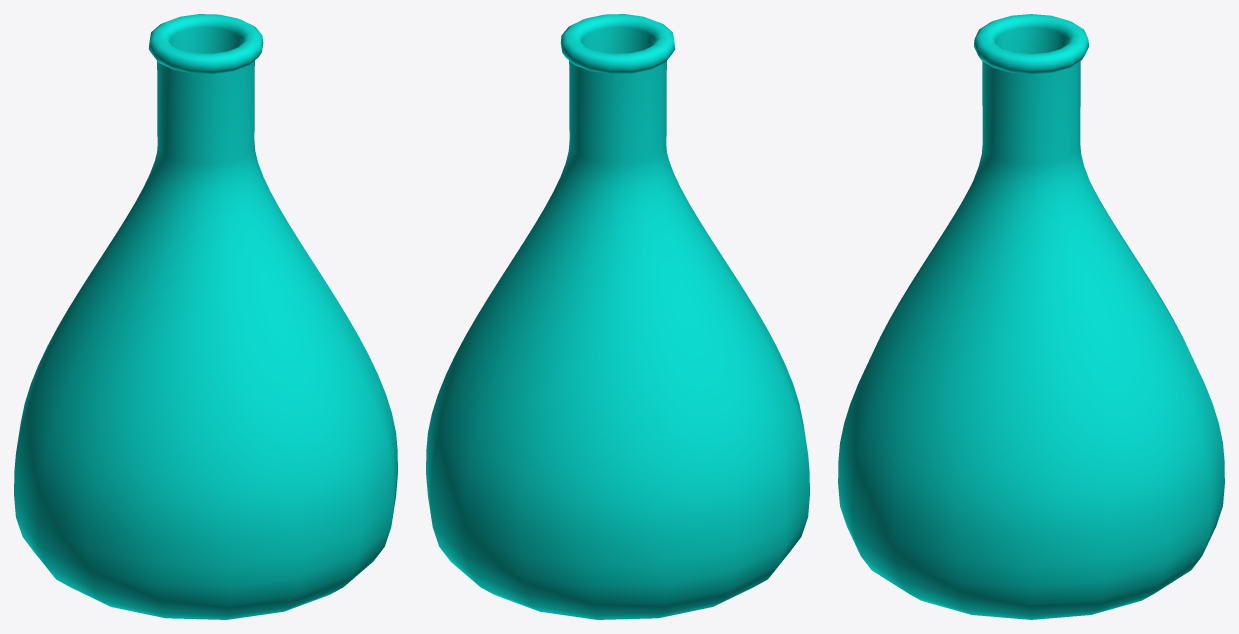
File: ampolla.fbx
3 renders of one model, left to right at view 1: azimuth 30°, elevation 25°; view 2: azimuth 150°, elevation 25°; view 3: azimuth 270°, elevation 25°, orthographic.
Visible parts, largest first — view 1: KB3D_SecretLab_Native:KB3D_LAB_LabEquipement_I_Main; view 2: KB3D_SecretLab_Native:KB3D_LAB_LabEquipement_I_Main; view 3: KB3D_SecretLab_Native:KB3D_LAB_LabEquipement_I_Main.
Part boxes in pixels (bbox=[...]): KB3D_SecretLab_Native:KB3D_LAB_LabEquipement_I_Main: bbox=[14, 14, 397, 619]; KB3D_SecretLab_Native:KB3D_LAB_LabEquipement_I_Main: bbox=[426, 14, 809, 619]; KB3D_SecretLab_Native:KB3D_LAB_LabEquipement_I_Main: bbox=[838, 14, 1224, 619].
Size of the model in its own units: 0.9308 by 1.4 by 0.9308.
